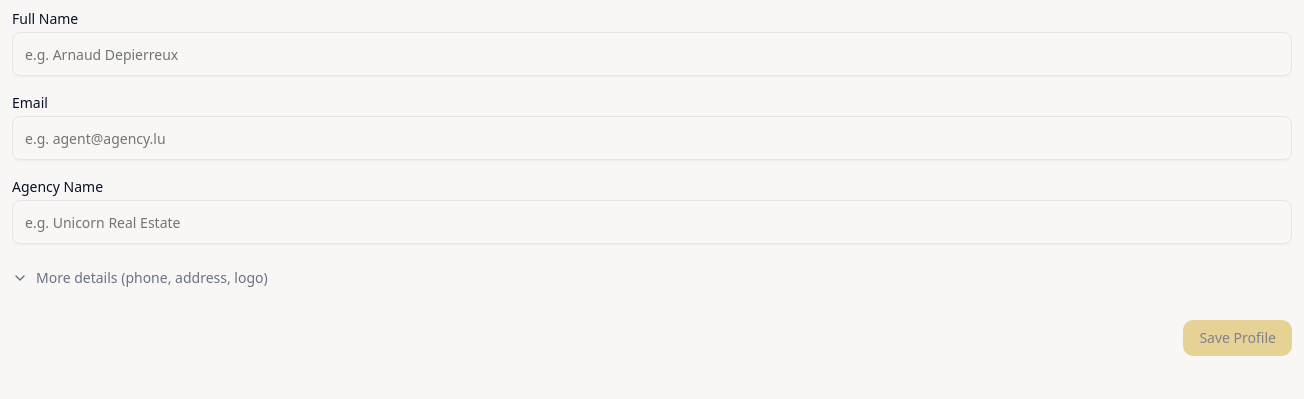
it: BrandingForm › email error › shows inline error after blur with malformed email
The width and height of the screenshot is (1304, 399).
Type "bad" into the field labelled "Email".
click(652, 138); type("bad")  # box top-left (12, 116), bottom-right (1292, 160)
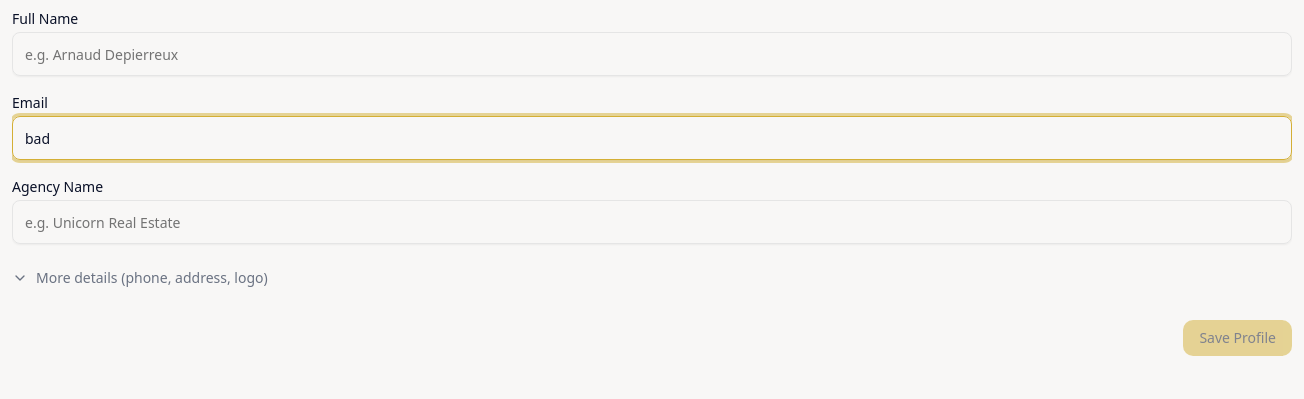
Press Tab
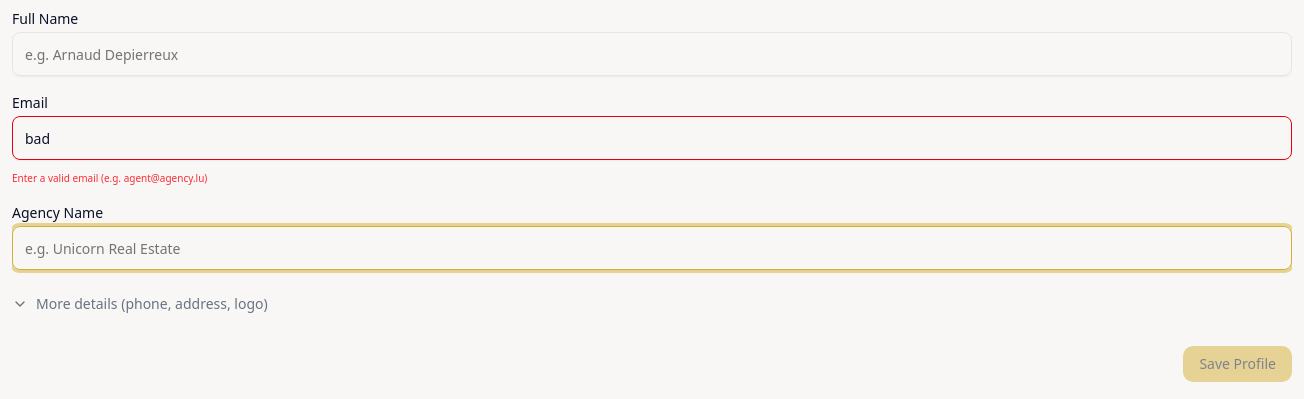
Now the message shows "valid email", box top-left (12, 171), bottom-right (207, 185)
